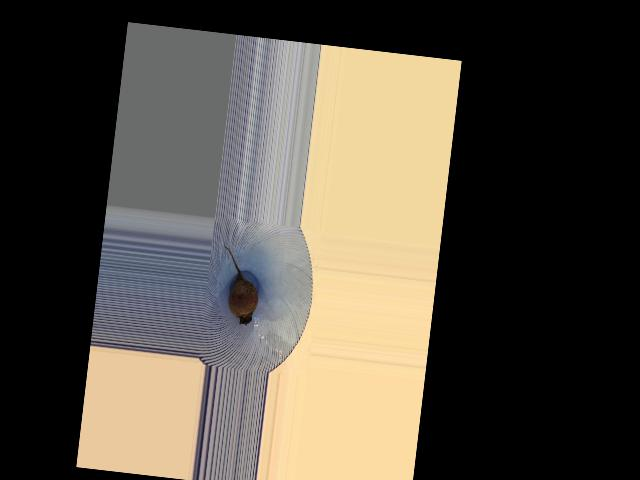beet: (215, 246, 263, 326)
